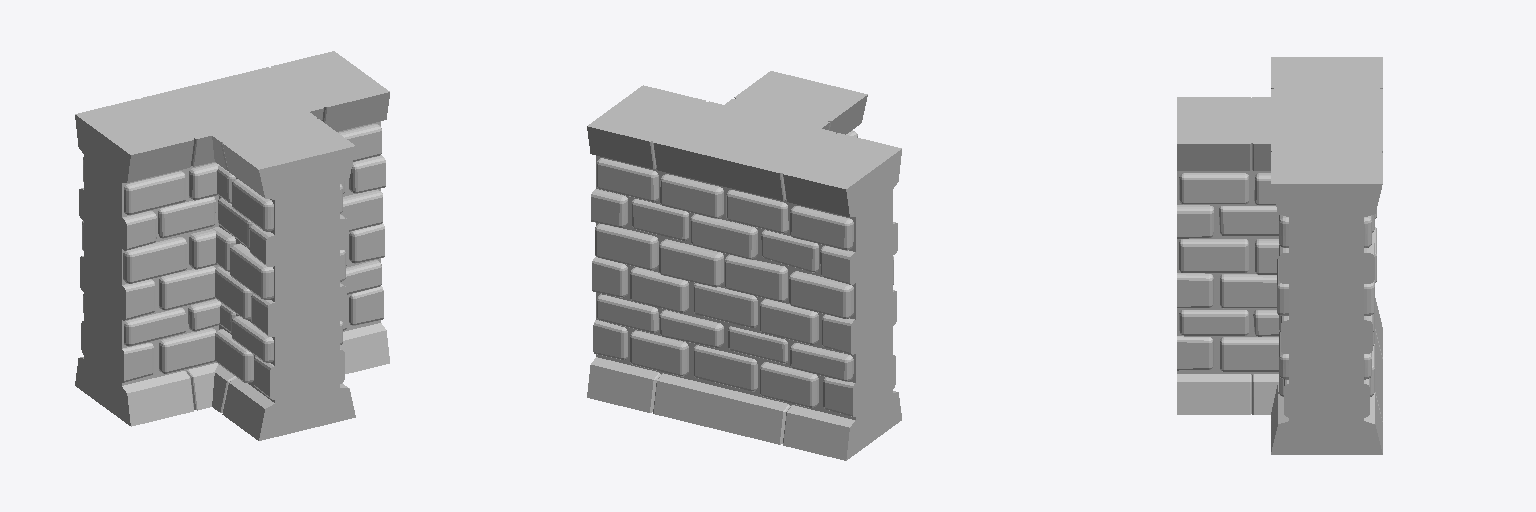
Rendered from wallSplit.obj.
3 views of the same model, side by side, from view 1: azimuth 30°, elevation 25°; view 2: azimuth 150°, elevation 25°; view 3: azimuth 270°, elevation 25° (orthographic).
Parts seen in each view (by area): view 1: wallSplit_Cube.2625; view 2: wallSplit_Cube.2625; view 3: wallSplit_Cube.2625.
Boxes of the visible parts, x1,y1,x2,y2 form: wallSplit_Cube.2625: [75, 51, 389, 440]; wallSplit_Cube.2625: [587, 71, 901, 460]; wallSplit_Cube.2625: [1177, 57, 1382, 454].
Size of the model in its own units: 4 by 4 by 2.75.